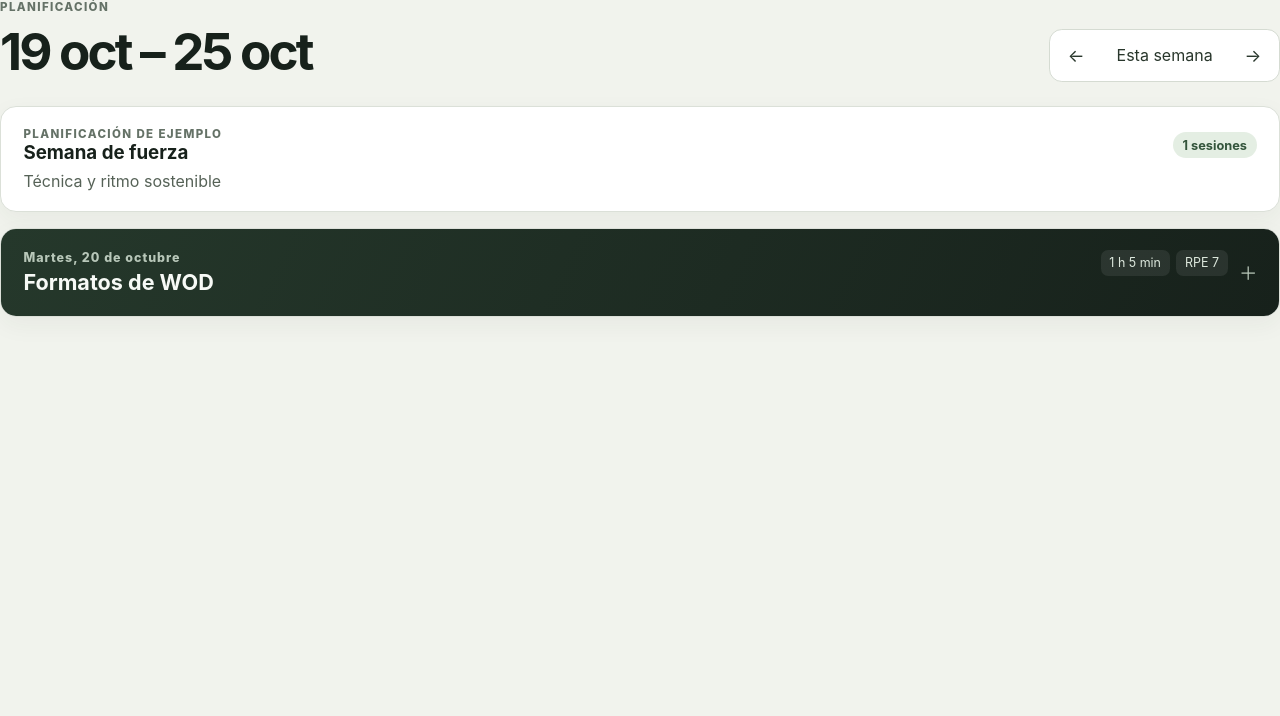
PlanningWeekScreen › renders AMRAP workout format details
The image size is (1280, 716).
Click the heading "Formatos de WOD" at (119, 282), box x1=23 y1=269 x2=214 y2=295
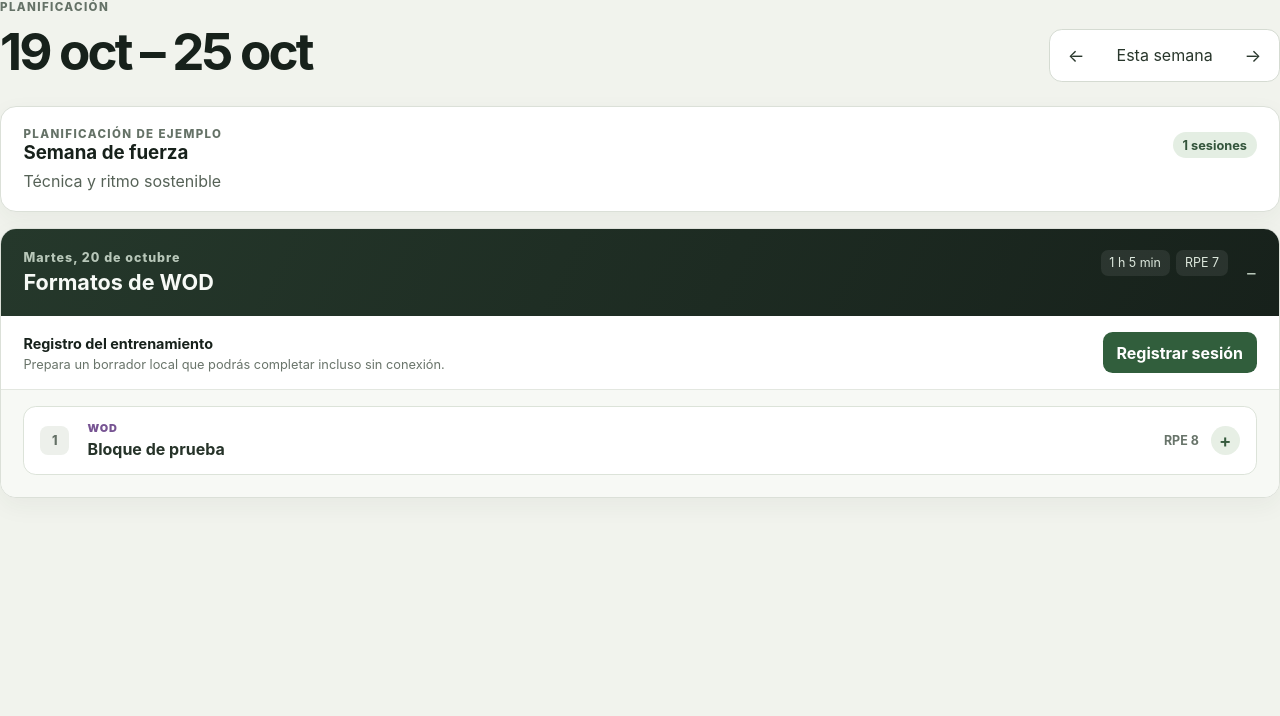
Click the button with aria-label "WOD: Bloque de prueba" at (103, 428), box x1=24 y1=407 x2=1256 y2=474
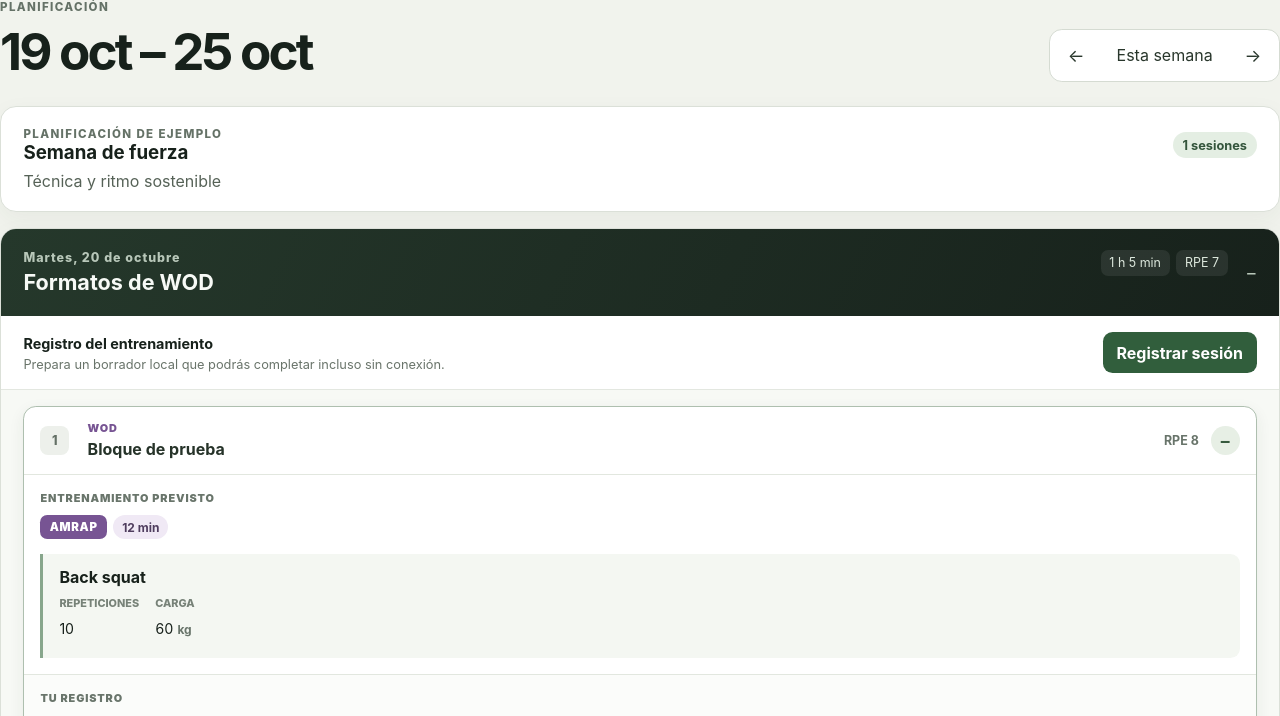
Expected: the text "AMRAP" is shown, x1=40 y1=515 x2=107 y2=539
Expected: the text "12 min" is shown, x1=113 y1=515 x2=168 y2=539
Expected: the text "Carga" is shown, x1=155 y1=596 x2=195 y2=610
